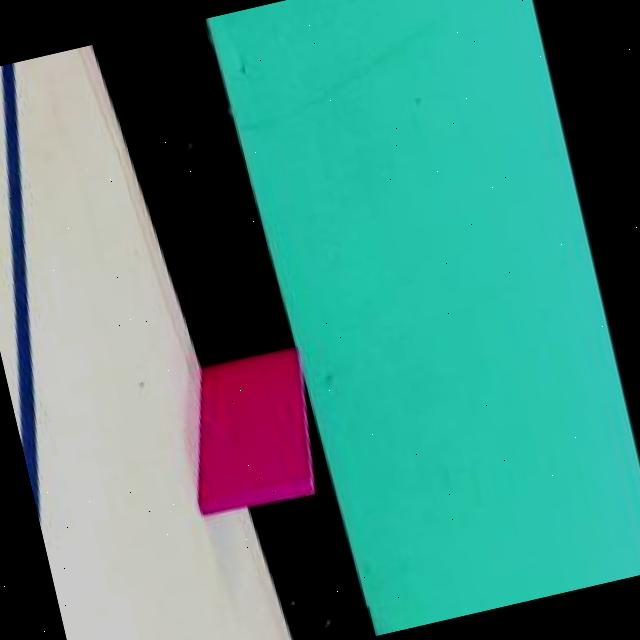xparking: (170, 356, 310, 505)
